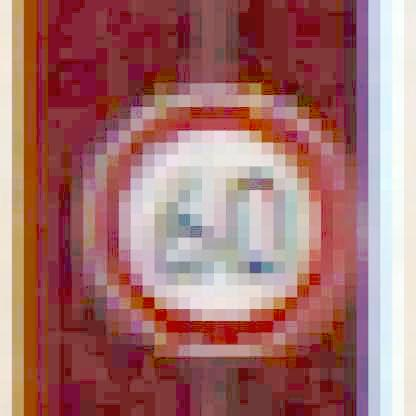Speed Limit -60-: (82, 85, 341, 359)
